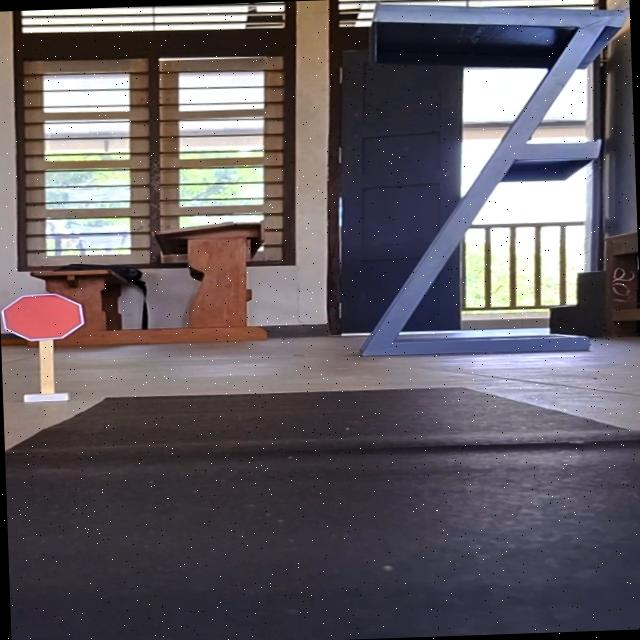Stop: (0, 291, 88, 343)
